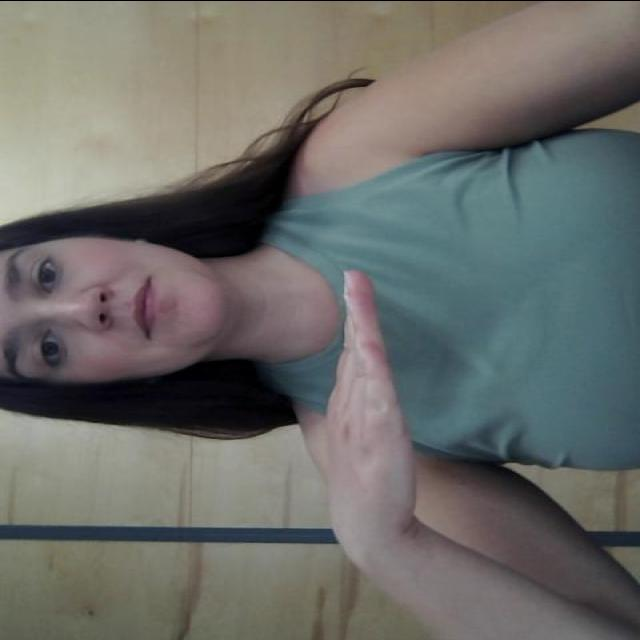Paper: (289, 258, 442, 599)
